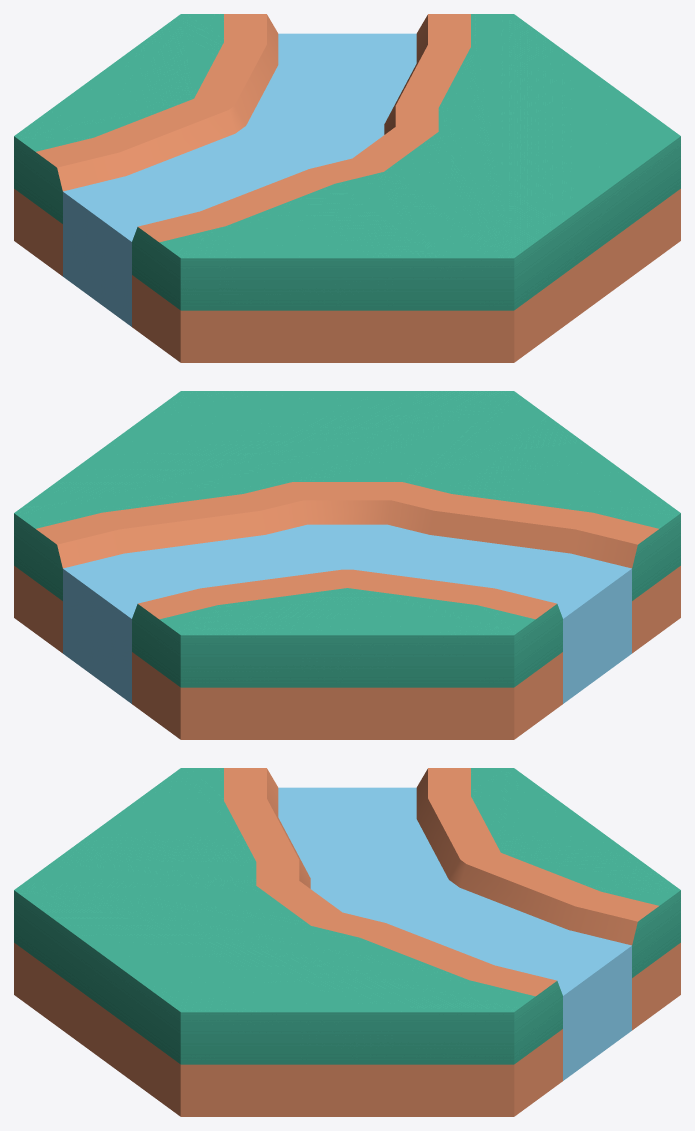
Rendered from river-corner.glb.
The picture shows the model from 3 angles, top to bottom: view 1: azimuth 30°, elevation 25°; view 2: azimuth 150°, elevation 25°; view 3: azimuth 270°, elevation 25°; orthographic projection.
Parts seen in each view (by area): view 1: river-corner; view 2: river-corner; view 3: river-corner.
Boxes of the visible parts, x1,y1,x2,y2 form: river-corner: (14, 14, 680, 362); river-corner: (14, 391, 680, 739); river-corner: (14, 768, 680, 1116).
Size of the model in its own units: 1 by 0.2 by 1.15.
1 material, 1 textured.
